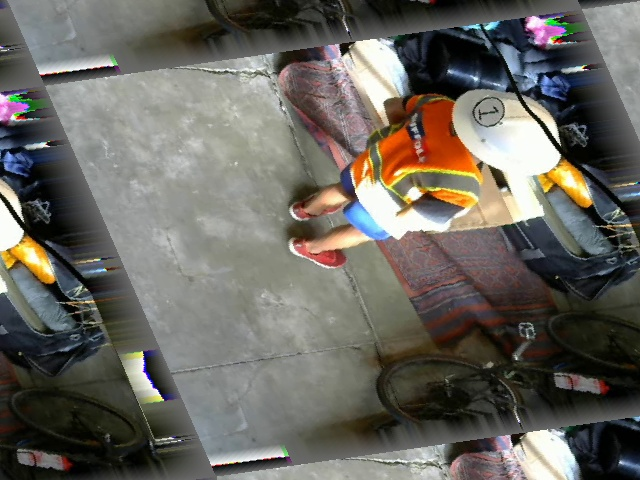one: (467, 95, 512, 128)
